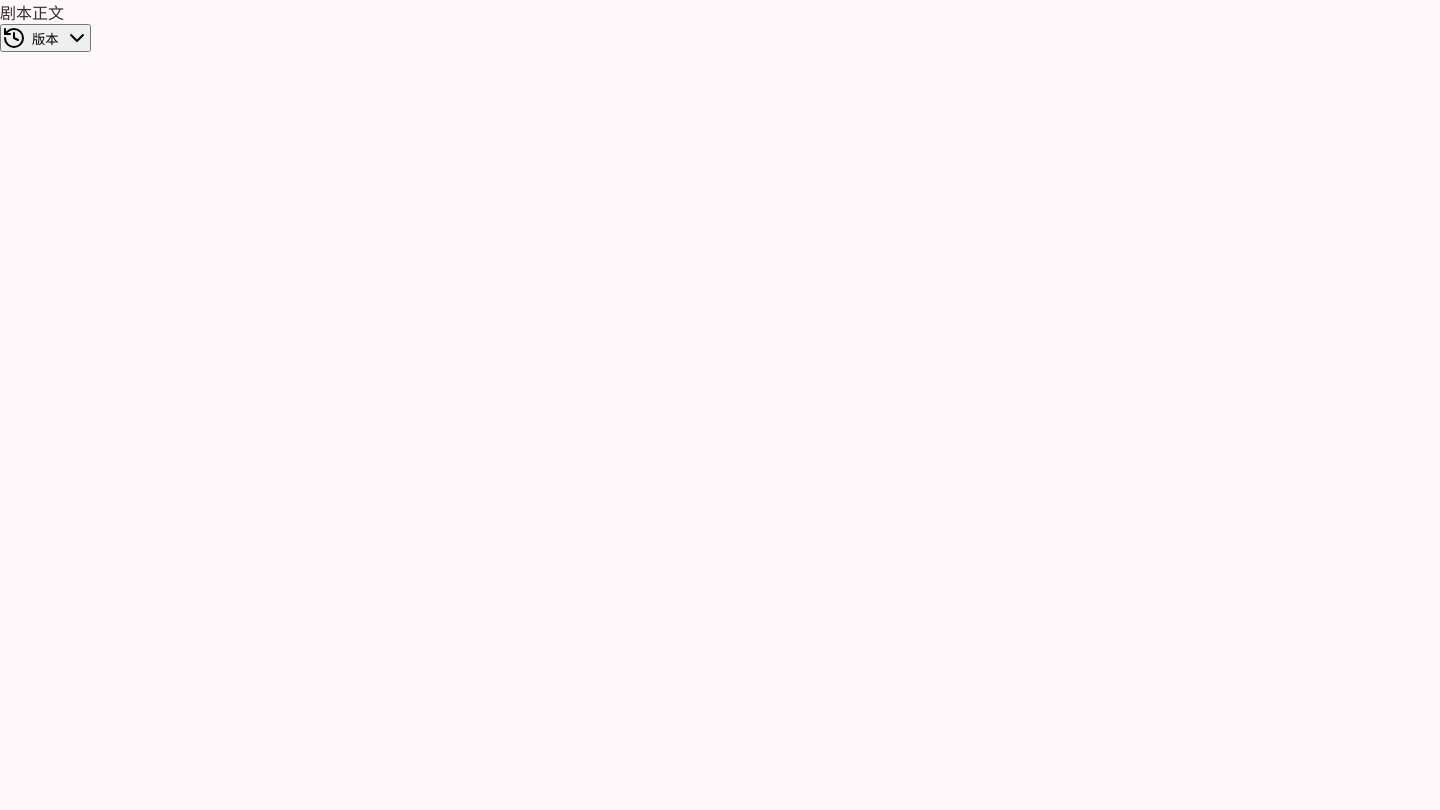
it: ScriptVersionMenu › puts the panel away on a click elsewhere or Esc, and Esc hands focus back to the button
Click the button "版本".
click(45, 38)  # box [0,24,91,52]
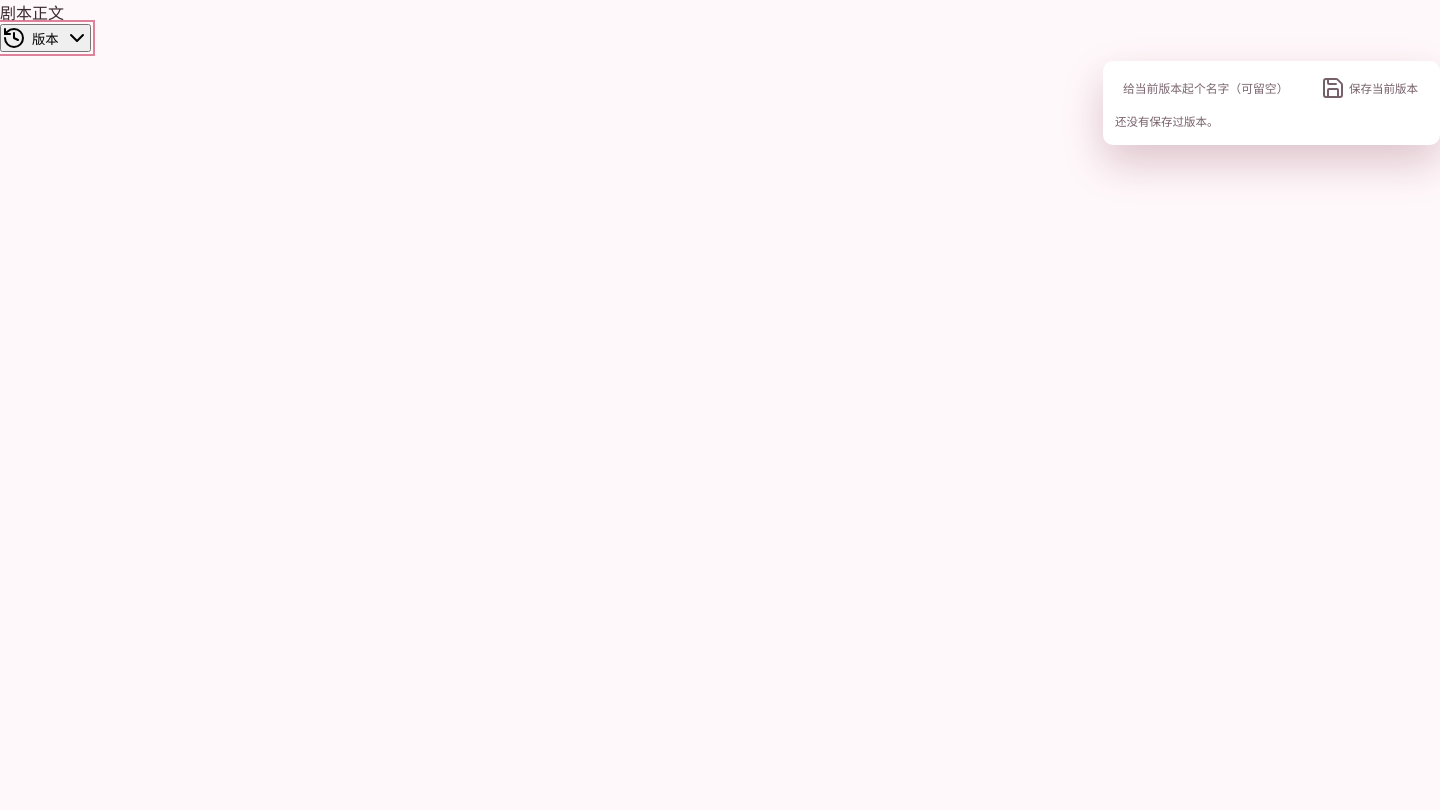
Click the field named "版本名称".
click(1210, 88)  # box [1115,73,1305,103]
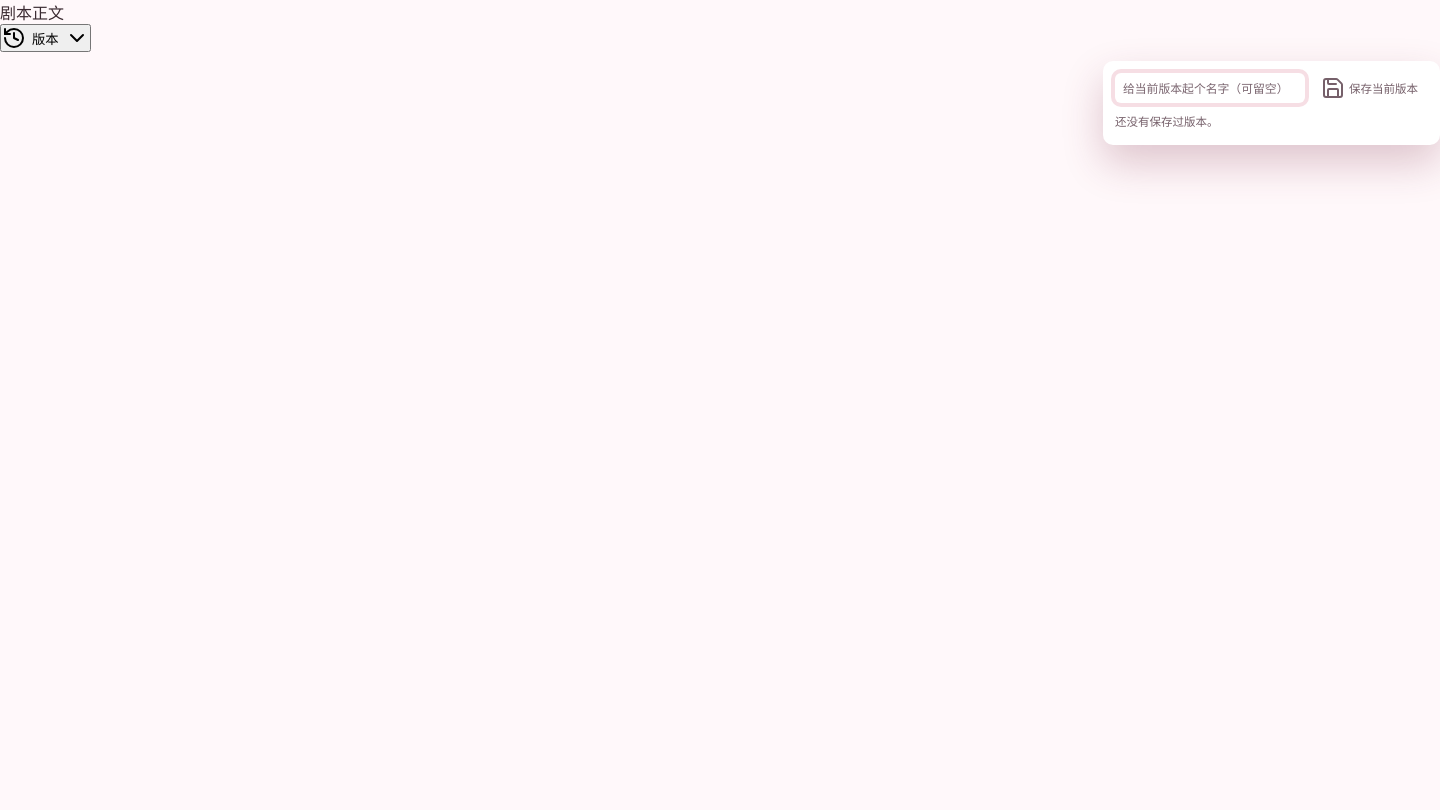
Now the dialog named "剧本版本" is shown, box [1103,61,1439,145]
Click the text "剧本正文".
click(32, 13)  # box [0,2,64,24]
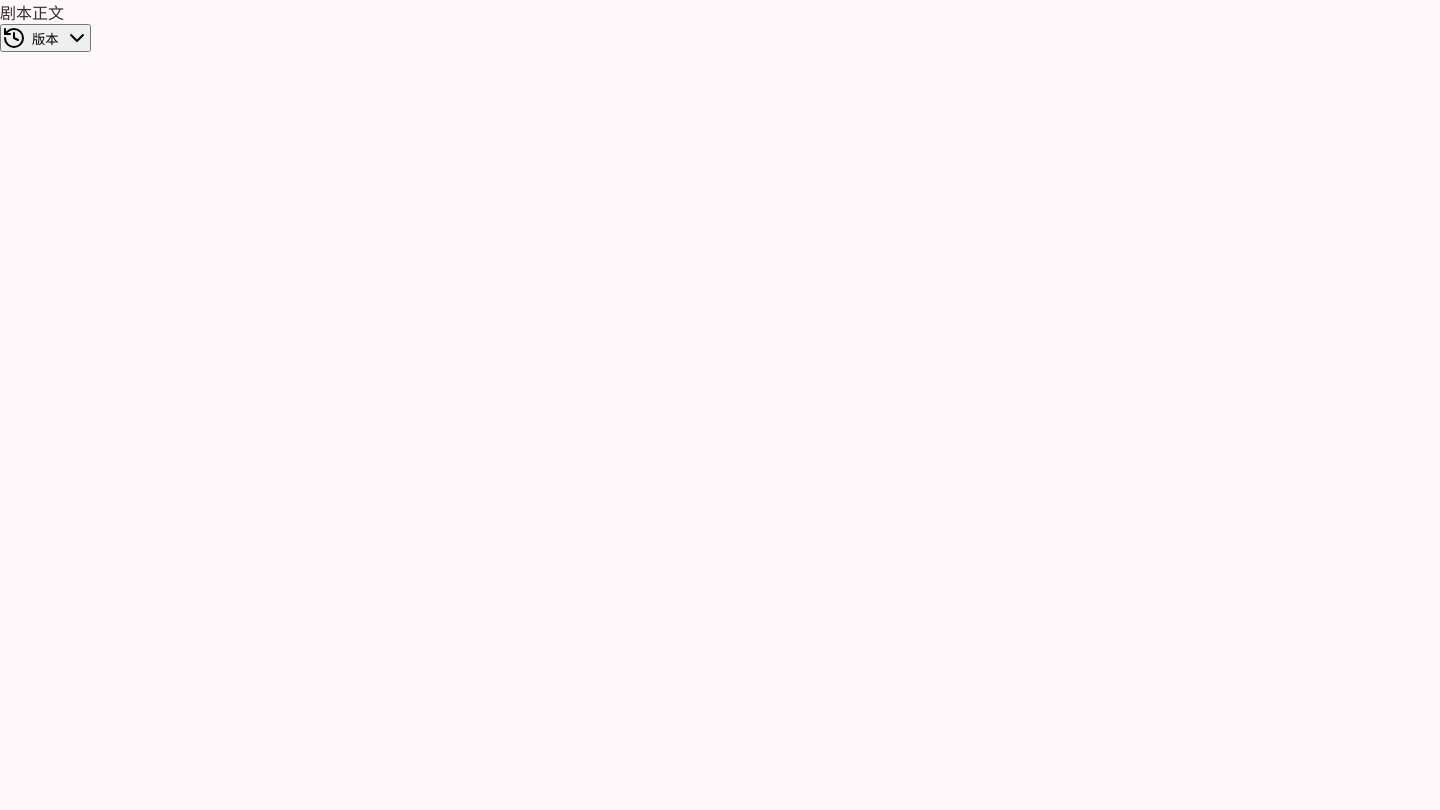
Now the dialog "剧本版本" is gone
Click the button "版本".
click(45, 38)  # box [0,24,91,52]
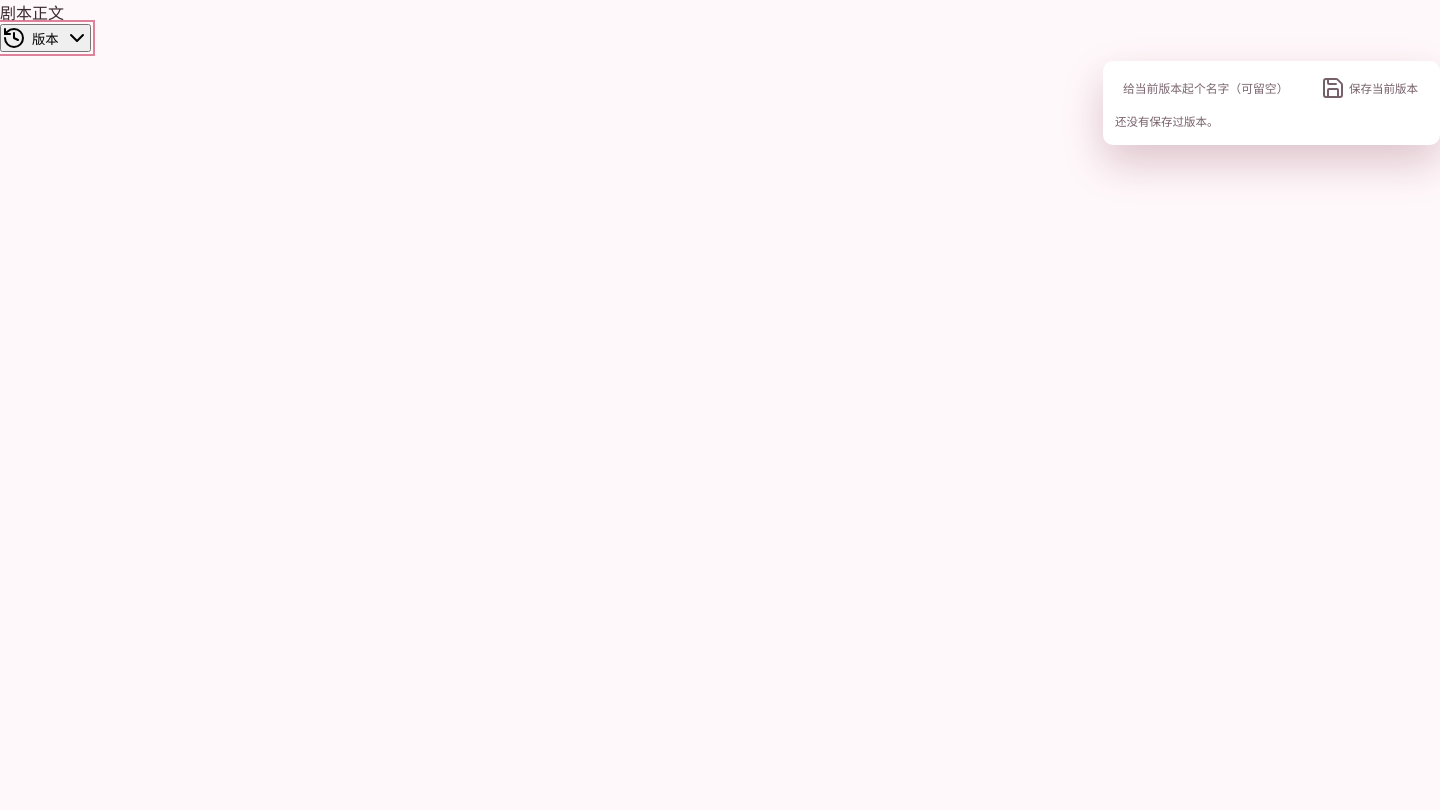
Click the field named "版本名称".
click(1210, 88)  # box [1115,73,1305,103]
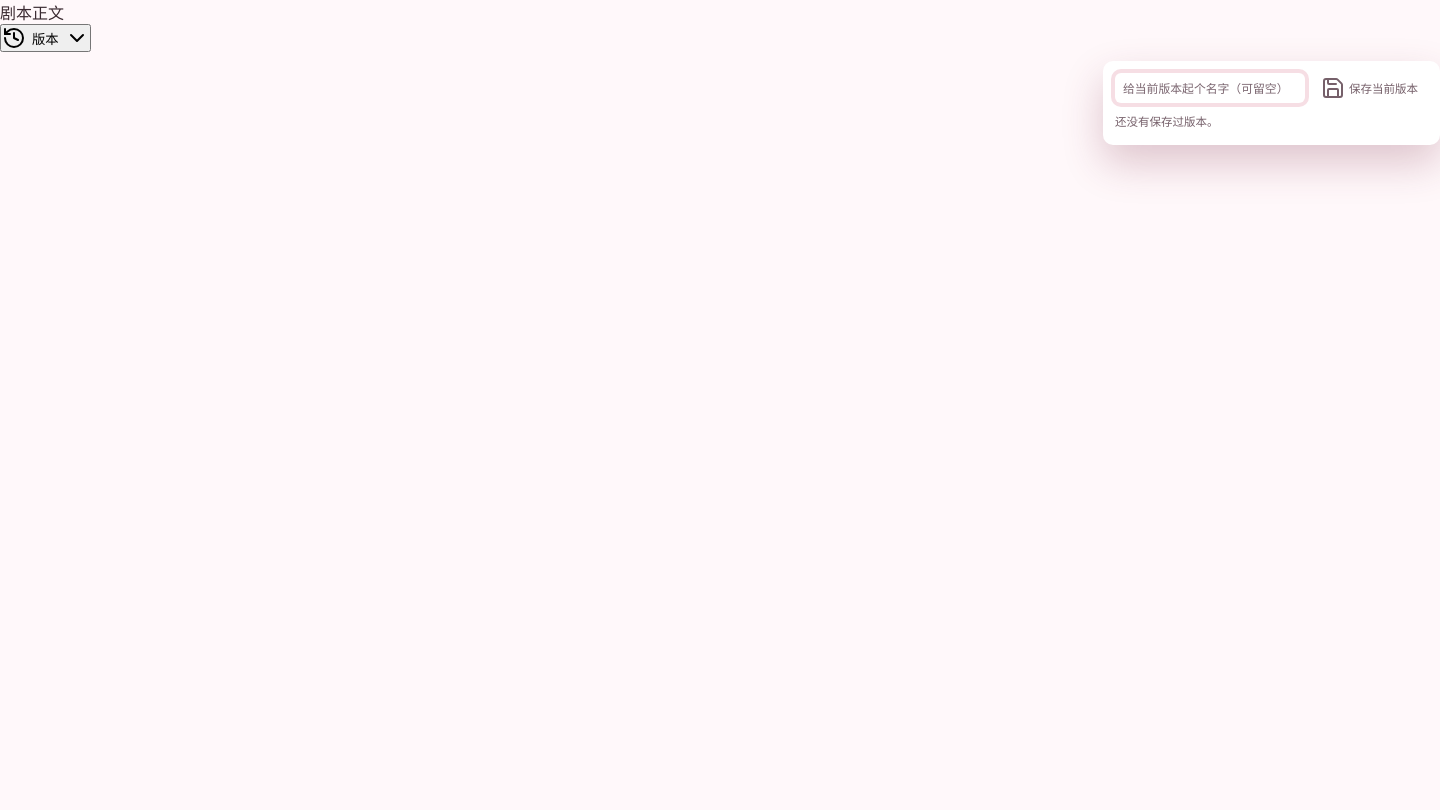
Press Escape
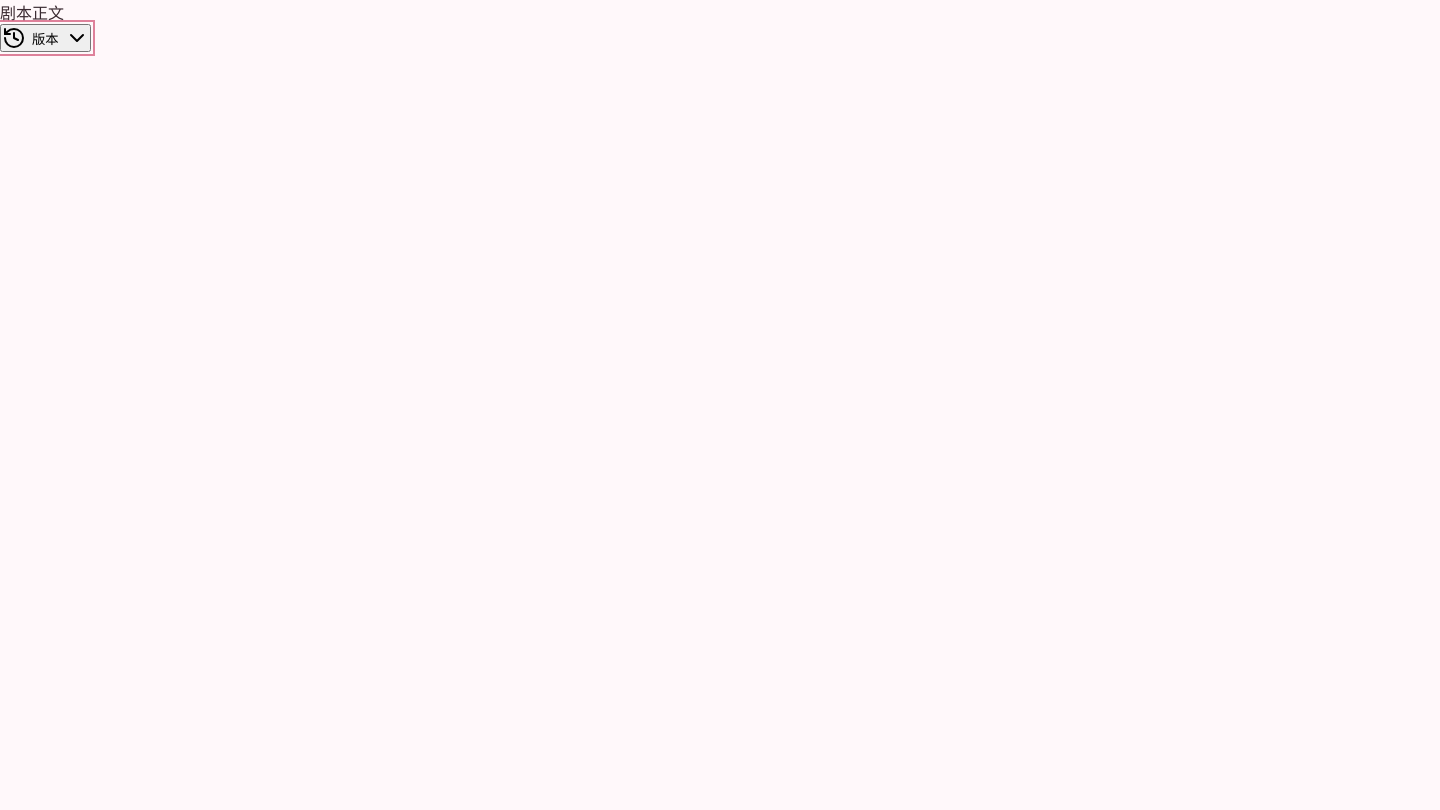
Now the dialog "剧本版本" is gone
